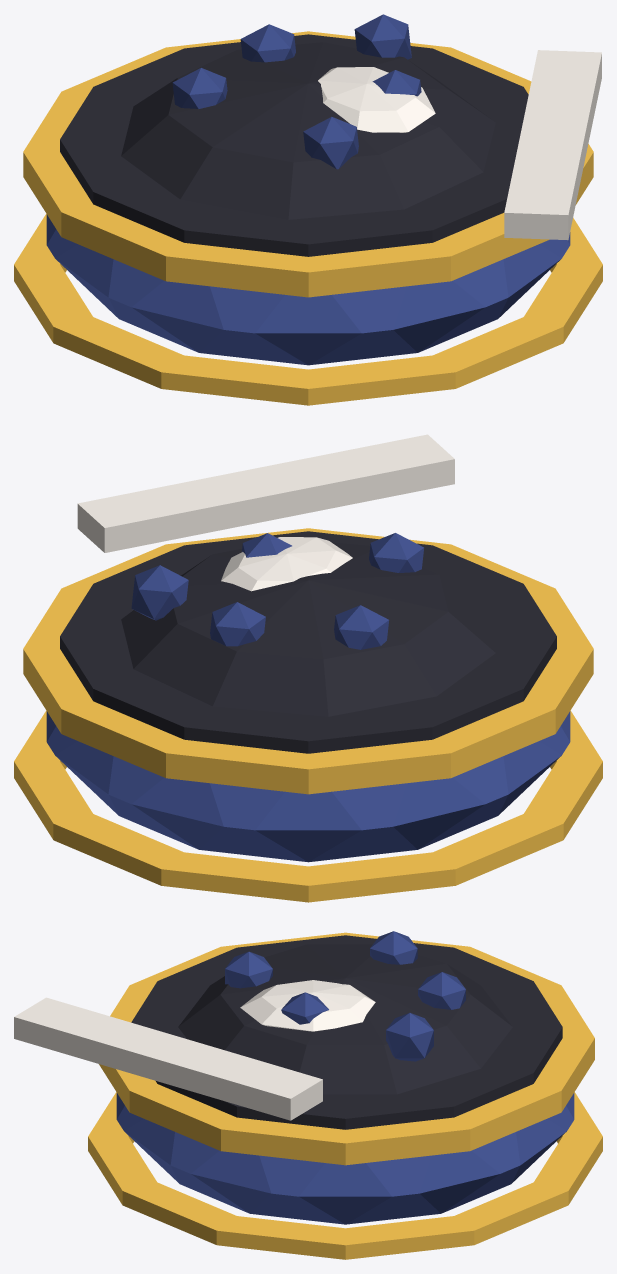
Rendered from CatCafe_Item_Caviar.fbx.
3 views of the same model, one above another, from view 1: azimuth 30°, elevation 25°; view 2: azimuth 150°, elevation 25°; view 3: azimuth 270°, elevation 25° (orthographic). The views are drawn at different scales.
Parts seen in each view (by area): view 1: CatCafe_Item_Caviar; view 2: CatCafe_Item_Caviar; view 3: CatCafe_Item_Caviar.
Boxes of the visible parts, x1,y1,x2,y2 form: CatCafe_Item_Caviar: (14, 14, 602, 405); CatCafe_Item_Caviar: (14, 434, 602, 902); CatCafe_Item_Caviar: (14, 931, 602, 1259).
Size of the model in its own units: 0.6491 by 0.255 by 0.7321.
1 material, 1 textured.
